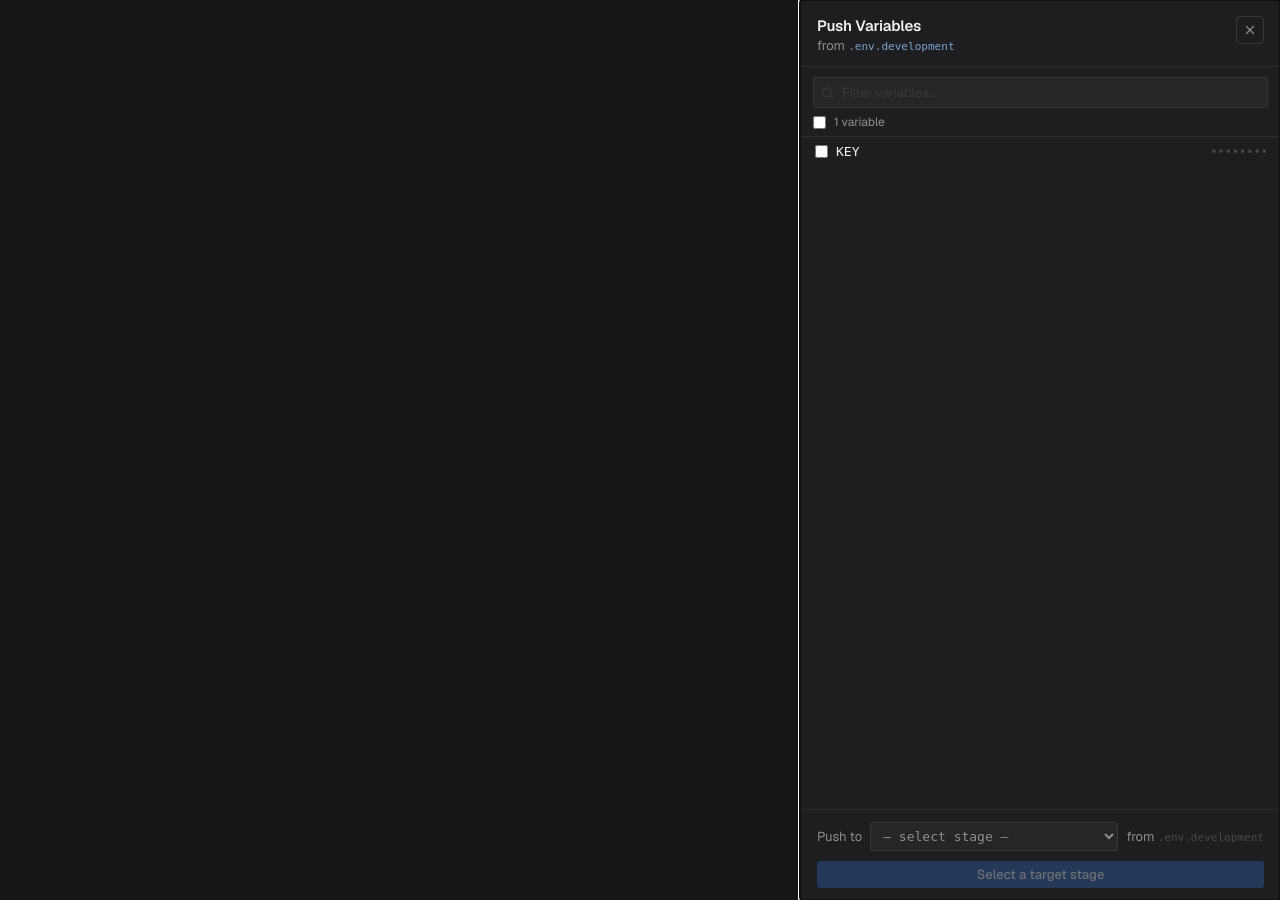
it: PushToStagePanel › Edge cases › CTA label shows singular "variable" for 1 selected
Click the row "KEY ••••••••": (1239, 152) [815,144,1268,159]
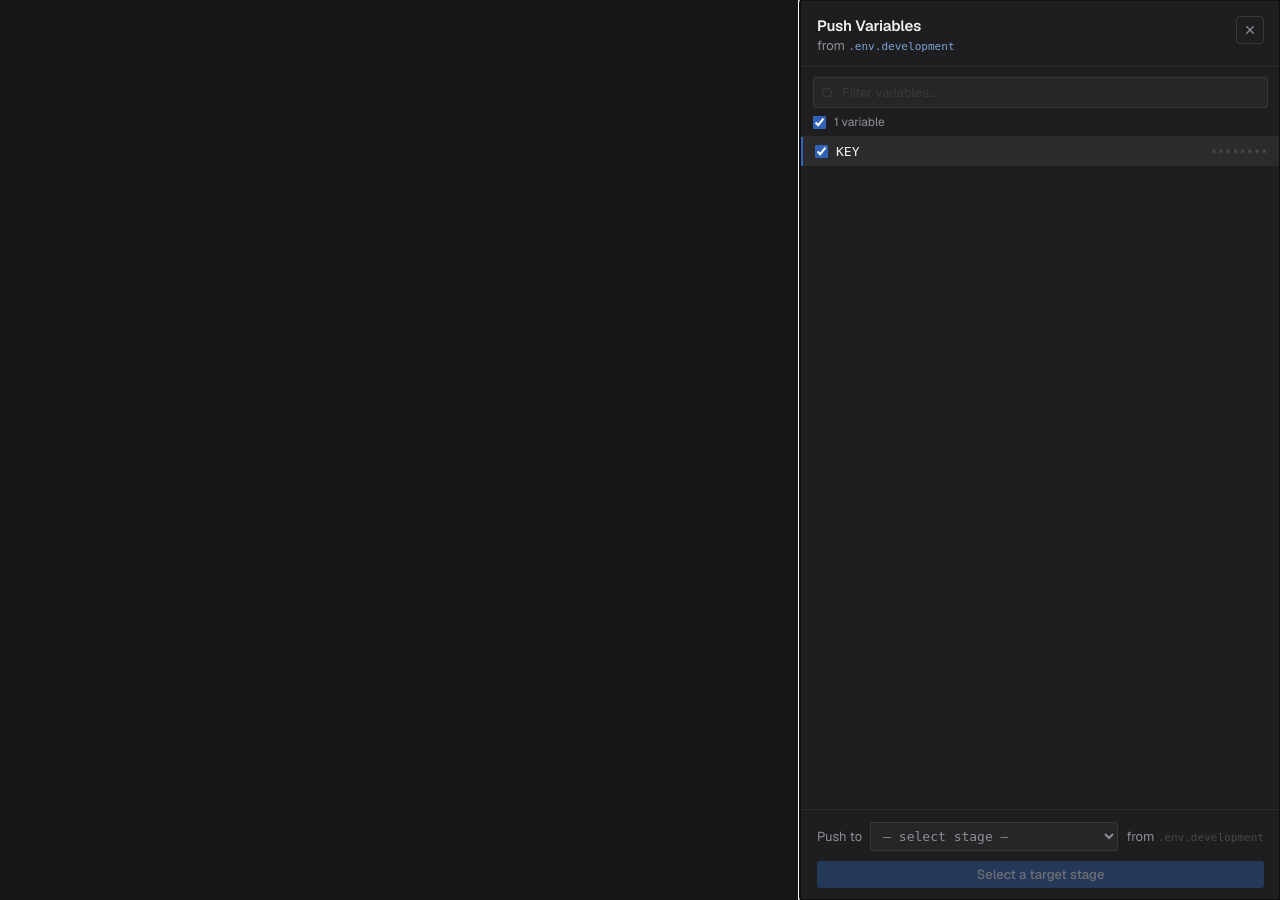
Select ".env.staging (empty)" in the dropdown with test id "stage-selector": (994, 836) [870,822,1118,851]
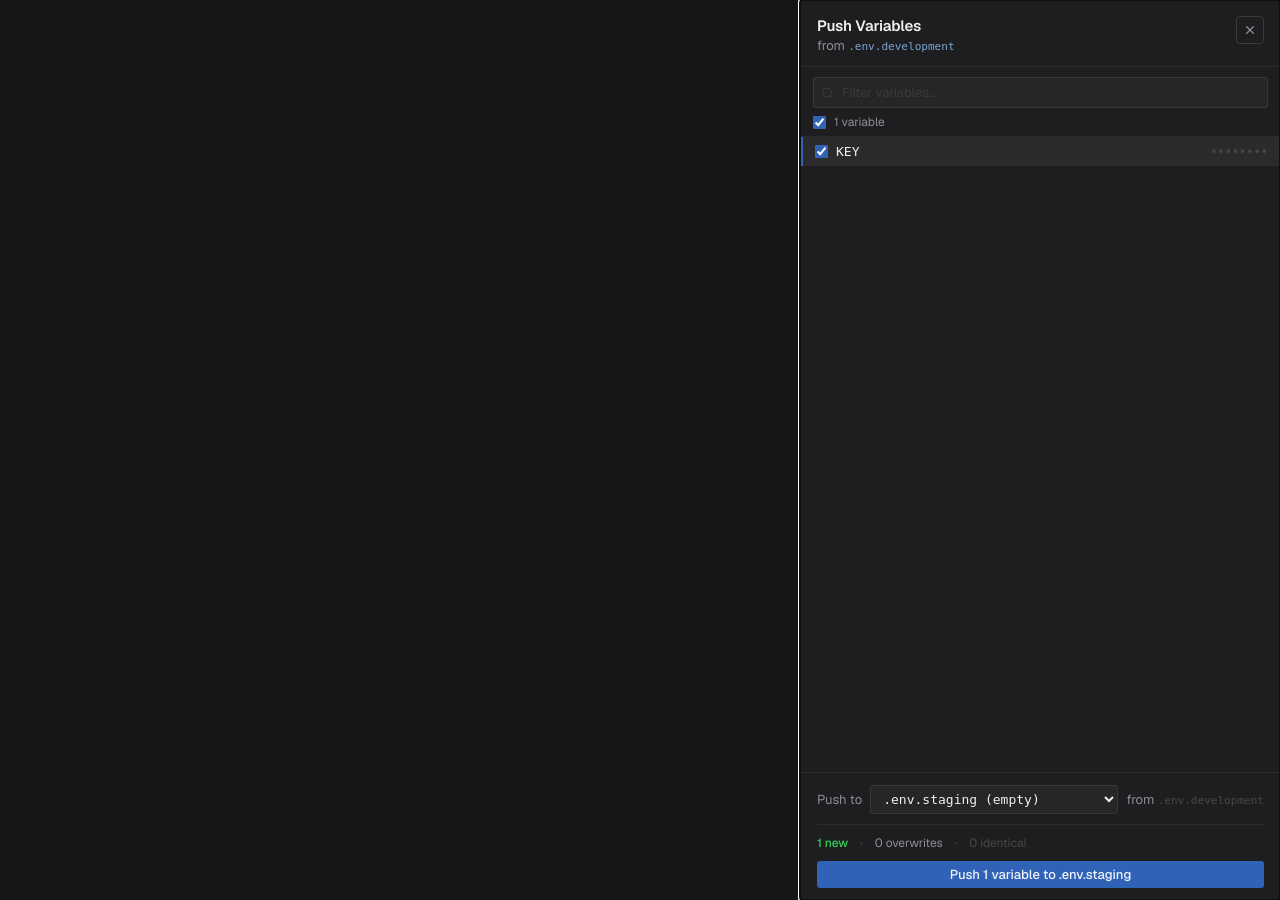
Expected: the button with test id "push-cta-button" does not show "variables", [817,861,1264,888]
Now the button with test id "push-cta-button" shows "Push 1 variable to", box [817,861,1264,888]
